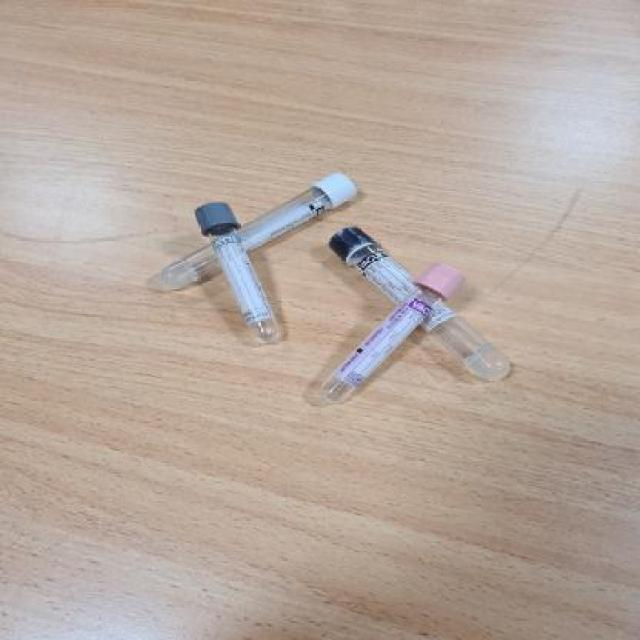Experimental-tube: (332, 225, 514, 382), (158, 170, 358, 292), (320, 262, 463, 404), (193, 199, 282, 344)
